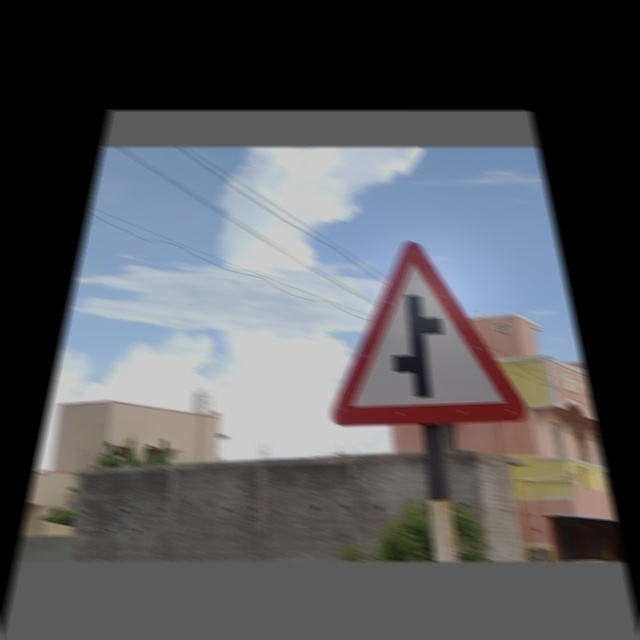Staggered_Intersection: (325, 240, 534, 433)
